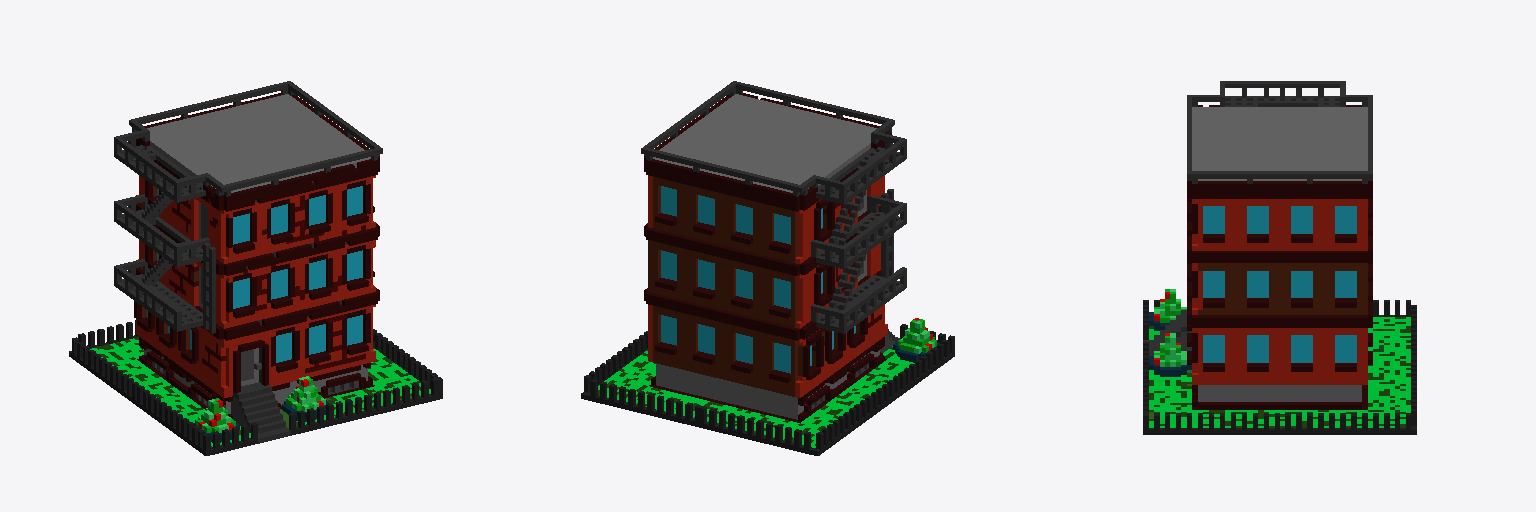
The picture shows the model from 3 angles: view 1: azimuth 30°, elevation 25°; view 2: azimuth 150°, elevation 25°; view 3: azimuth 270°, elevation 25°; orthographic projection.
Visible parts, largest first — view 1: object 1; view 2: object 1; view 3: object 1.
Boxes of the visible parts, x1,y1,x2,y2 form: object 1: [69, 81, 442, 455]; object 1: [581, 81, 954, 455]; object 1: [1143, 81, 1416, 434].
Bounding box in the file's own units: 5 × 4.9 × 5.
Materials: 1 (1 with a texture image).